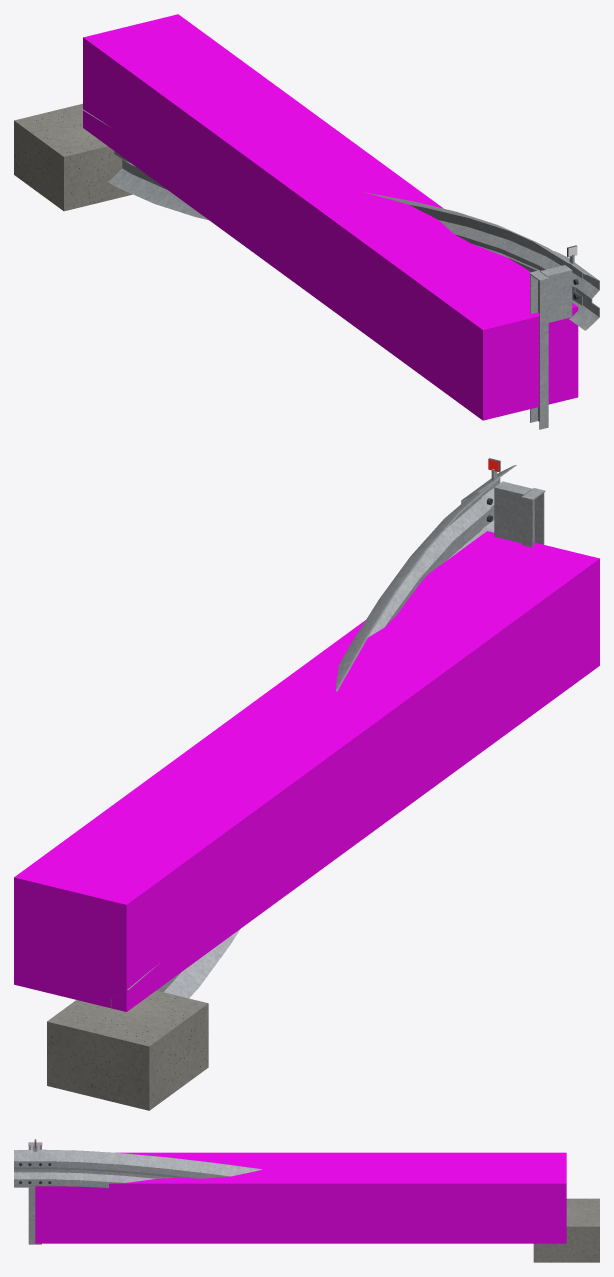
File: EN_Barrier_WBeam_EndRamp_Start.fbx
The picture shows the model from 3 angles, top to bottom: view 1: azimuth 30°, elevation 25°; view 2: azimuth 150°, elevation 25°; view 3: azimuth 270°, elevation 25°; orthographic projection. The views are drawn at different scales.
Parts seen in each view (by area): view 1: COL_Barrier, EN_Barrier_WBeam_EndRamp_Start_Mesh; view 2: COL_Barrier, EN_Barrier_WBeam_EndRamp_Start_Mesh; view 3: COL_Barrier, EN_Barrier_WBeam_EndRamp_Start_Mesh.
Part boxes in pixels (x1=…): COL_Barrier: x1=83, y1=14, x2=578, y2=420; EN_Barrier_WBeam_EndRamp_Start_Mesh: x1=14, y1=103, x2=599, y2=429; COL_Barrier: x1=14, y1=531, x2=599, y2=1011; EN_Barrier_WBeam_EndRamp_Start_Mesh: x1=47, y1=458, x2=545, y2=1110; COL_Barrier: x1=35, y1=1152, x2=566, y2=1243; EN_Barrier_WBeam_EndRamp_Start_Mesh: x1=14, y1=1139, x2=599, y2=1262.
Size of the model in its own units: 0.845 by 1.14 by 4.41.
